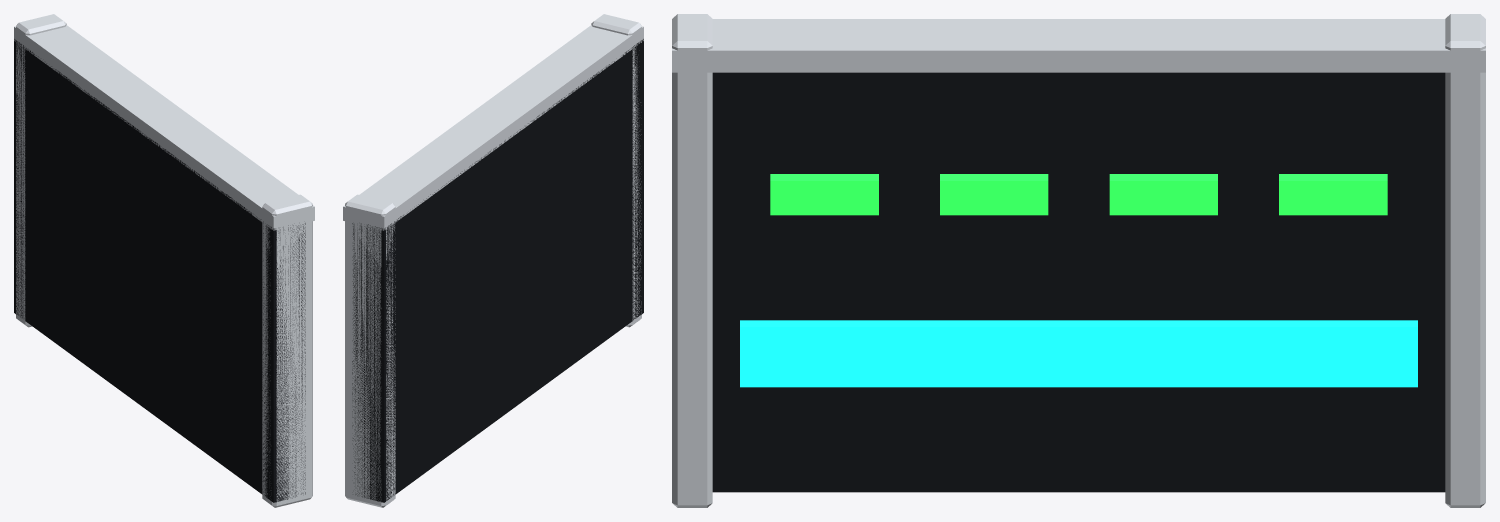
File: skirt_neon_green.glb
3 views of the same model, side by side, from view 1: azimuth 30°, elevation 25°; view 2: azimuth 150°, elevation 25°; view 3: azimuth 270°, elevation 25° (orthographic). The views are drawn at different scales.
Visible parts, largest first — view 1: skirt_neon_green_MID_deco_body, skirt_neon_green_HEAD_chrome, skirt_neon_green_MID_chrome, skirt_neon_green_HEAD_deco_body, skirt_neon_green_TAIL_deco_body, skirt_neon_green_TAIL_chrome; view 2: skirt_neon_green_MID_deco_body, skirt_neon_green_TAIL_chrome, skirt_neon_green_TAIL_deco_body, skirt_neon_green_MID_chrome, skirt_neon_green_HEAD_deco_body, skirt_neon_green_HEAD_chrome; view 3: skirt_neon_green_MID_deco_body, skirt_neon_green_MID_deco_neon, skirt_neon_green_MID_chrome, skirt_neon_green_HEAD_chrome, skirt_neon_green_TAIL_chrome, skirt_neon_green_MID_deco_led, skirt_neon_green_HEAD_deco_body, skirt_neon_green_TAIL_deco_body.
Part boxes in pixels (x1,y1,x2,y2): skirt_neon_green_MID_deco_body: (35,55,251,486); skirt_neon_green_HEAD_chrome: (252,191,314,507); skirt_neon_green_MID_chrome: (35,32,292,213); skirt_neon_green_HEAD_deco_body: (252,215,305,502); skirt_neon_green_TAIL_deco_body: (14,39,35,328); skirt_neon_green_TAIL_chrome: (14,14,76,327); skirt_neon_green_MID_deco_body: (406,57,622,486); skirt_neon_green_TAIL_chrome: (343,191,405,507); skirt_neon_green_TAIL_deco_body: (352,215,405,502); skirt_neon_green_MID_chrome: (365,32,622,214); skirt_neon_green_HEAD_deco_body: (622,39,643,328); skirt_neon_green_HEAD_chrome: (581,14,643,327); skirt_neon_green_MID_deco_body: (740,72,1417,492); skirt_neon_green_MID_deco_neon: (740,320,1417,387); skirt_neon_green_MID_chrome: (740,19,1417,72); skirt_neon_green_HEAD_chrome: (672,14,739,507); skirt_neon_green_TAIL_chrome: (1418,14,1485,507); skirt_neon_green_MID_deco_led: (770,174,1387,215); skirt_neon_green_HEAD_deco_body: (712,72,739,492); skirt_neon_green_TAIL_deco_body: (1418,72,1445,492).
Bounding box in the file's own units: 0.055 × 0.38 × 0.6.
